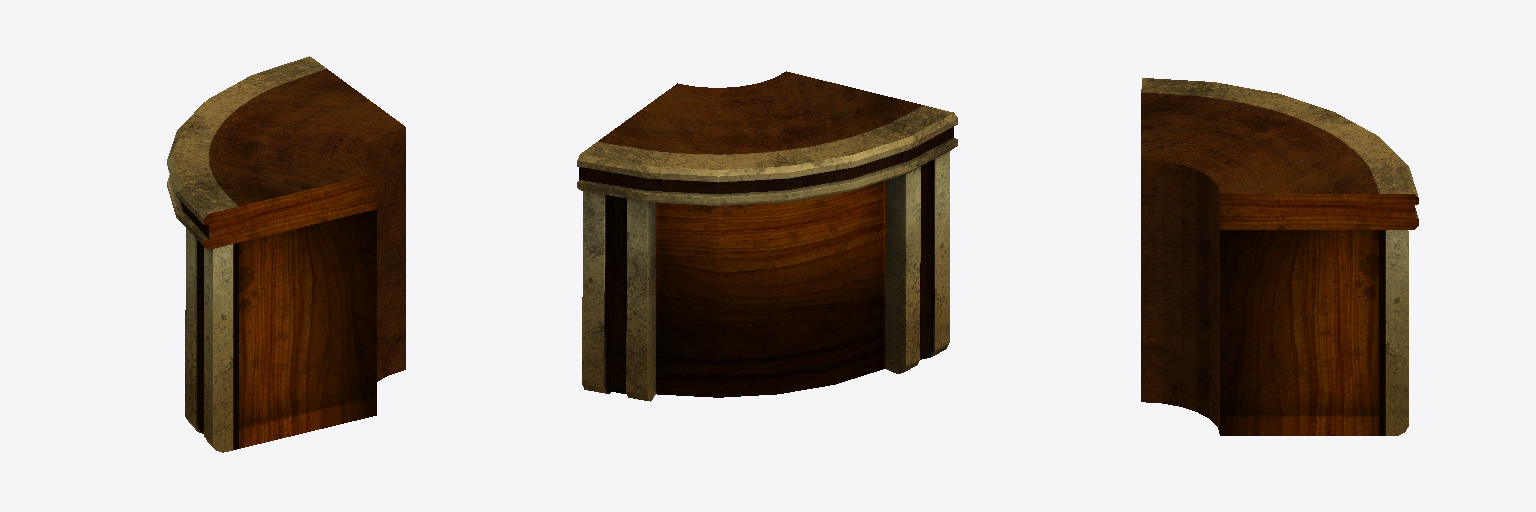
3 renders of one model, left to right at view 1: azimuth 30°, elevation 25°; view 2: azimuth 150°, elevation 25°; view 3: azimuth 270°, elevation 25°, orthographic.
Parts seen in each view (by area): view 1: EDU_Restaurant_barcorner96; view 2: EDU_Restaurant_barcorner96; view 3: EDU_Restaurant_barcorner96.
Boxes of the visible parts, x1=… form: EDU_Restaurant_barcorner96: x1=167, y1=56, x2=405, y2=452; EDU_Restaurant_barcorner96: x1=577, y1=71, x2=957, y2=401; EDU_Restaurant_barcorner96: x1=1141, y1=78, x2=1418, y2=435.
Bounding box in the file's own units: 112 × 108 × 112.
1 materials, 1 textured.